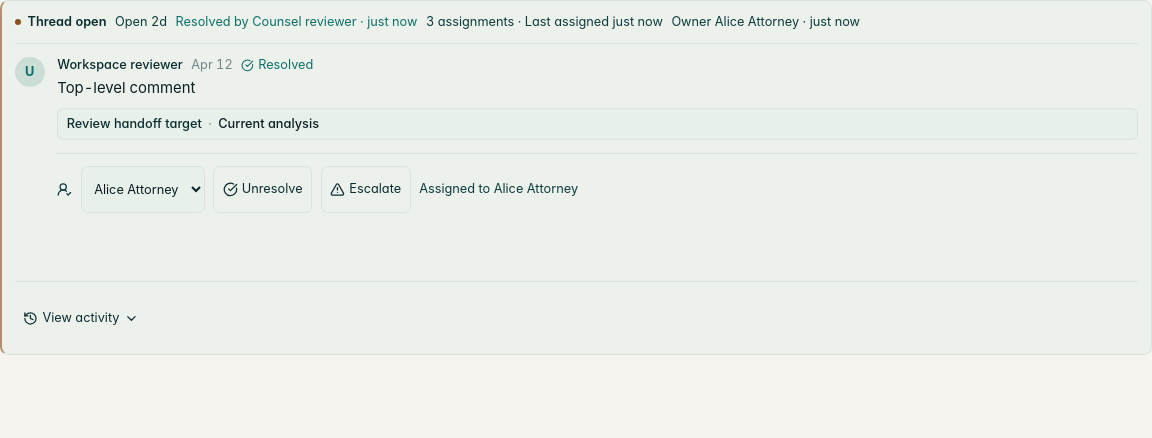
Test: CommentPanelThread › reveals assignment activity when expanded
Click the button "View activity" at (81, 318), box left=15, top=295, right=147, bottom=342
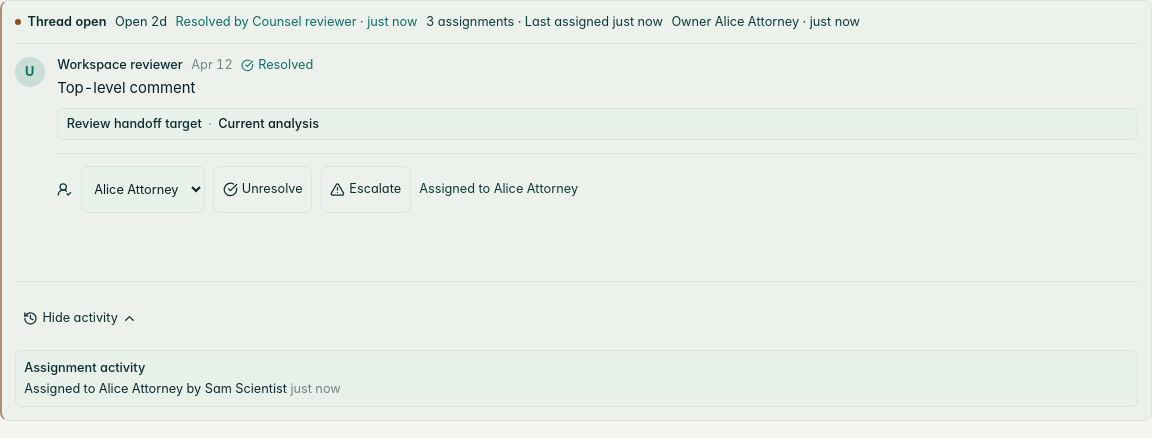
Result: the text "Assignment activity" is shown at left=24, top=360, right=145, bottom=375
Result: the list item "Assigned to Alice Attorney by Sam Scientist" is shown at left=24, top=381, right=287, bottom=396
